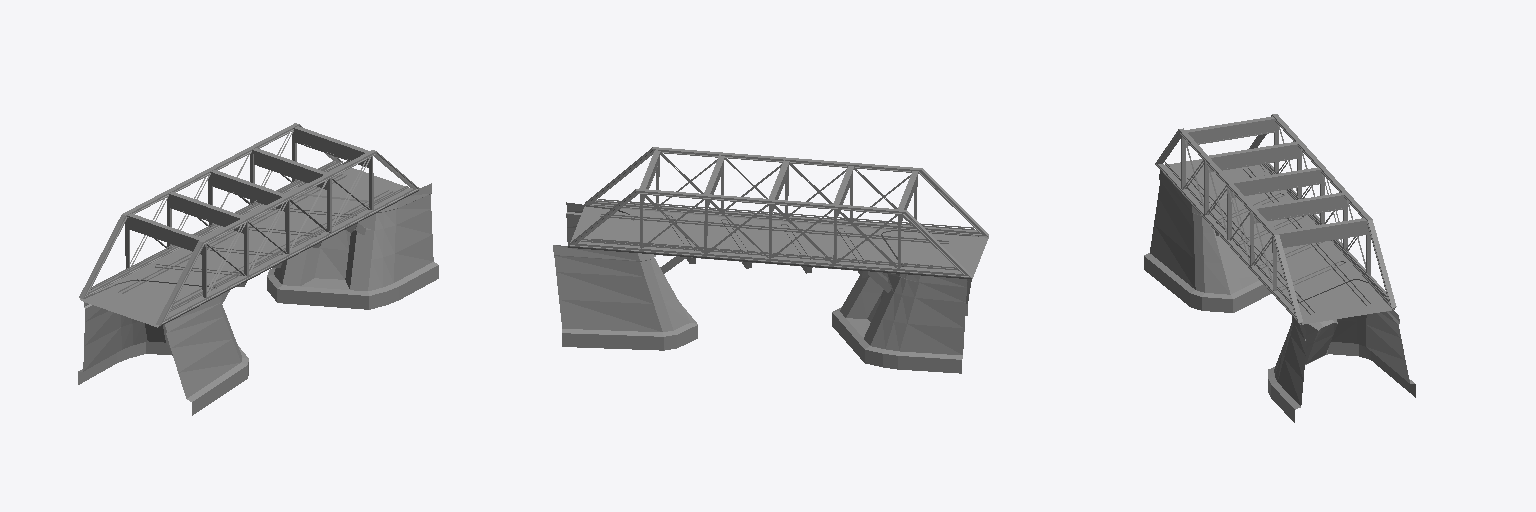
File: Splash.unity_2.obj
3 renders of one model, left to right at view 1: azimuth 30°, elevation 25°; view 2: azimuth 150°, elevation 25°; view 3: azimuth 270°, elevation 25°, orthographic.
Visible parts, largest first — view 1: Bridge_Top_FBX, BridgeSupport_FBX; view 2: Bridge_Top_FBX, BridgeSupport_FBX; view 3: Bridge_Top_FBX, BridgeSupport_FBX.
Part boxes in pixels (bbox=[...]): Bridge_Top_FBX: bbox=[79, 123, 419, 327]; BridgeSupport_FBX: bbox=[78, 161, 438, 415]; Bridge_Top_FBX: bbox=[568, 147, 988, 292]; BridgeSupport_FBX: bbox=[553, 202, 978, 373]; Bridge_Top_FBX: bbox=[1155, 114, 1396, 324]; BridgeSupport_FBX: bbox=[1144, 165, 1415, 422].
Bounding box in the file's own units: 112 × 43.94 × 69.36.